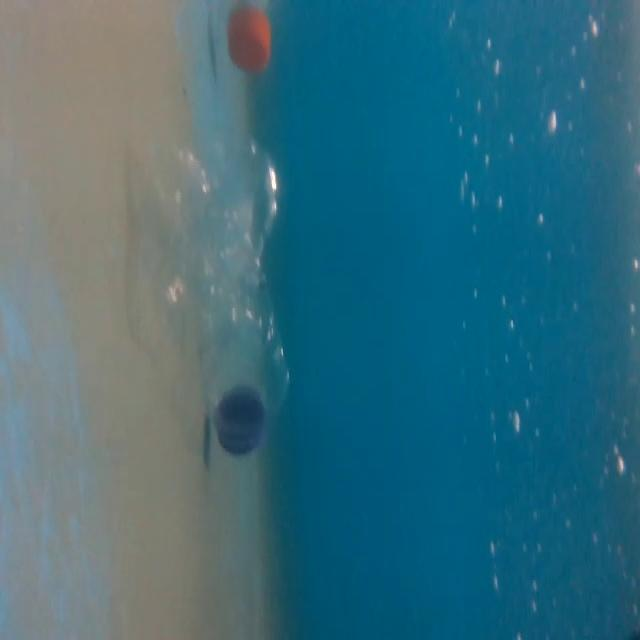plastic bottle: (131, 124, 301, 458)
